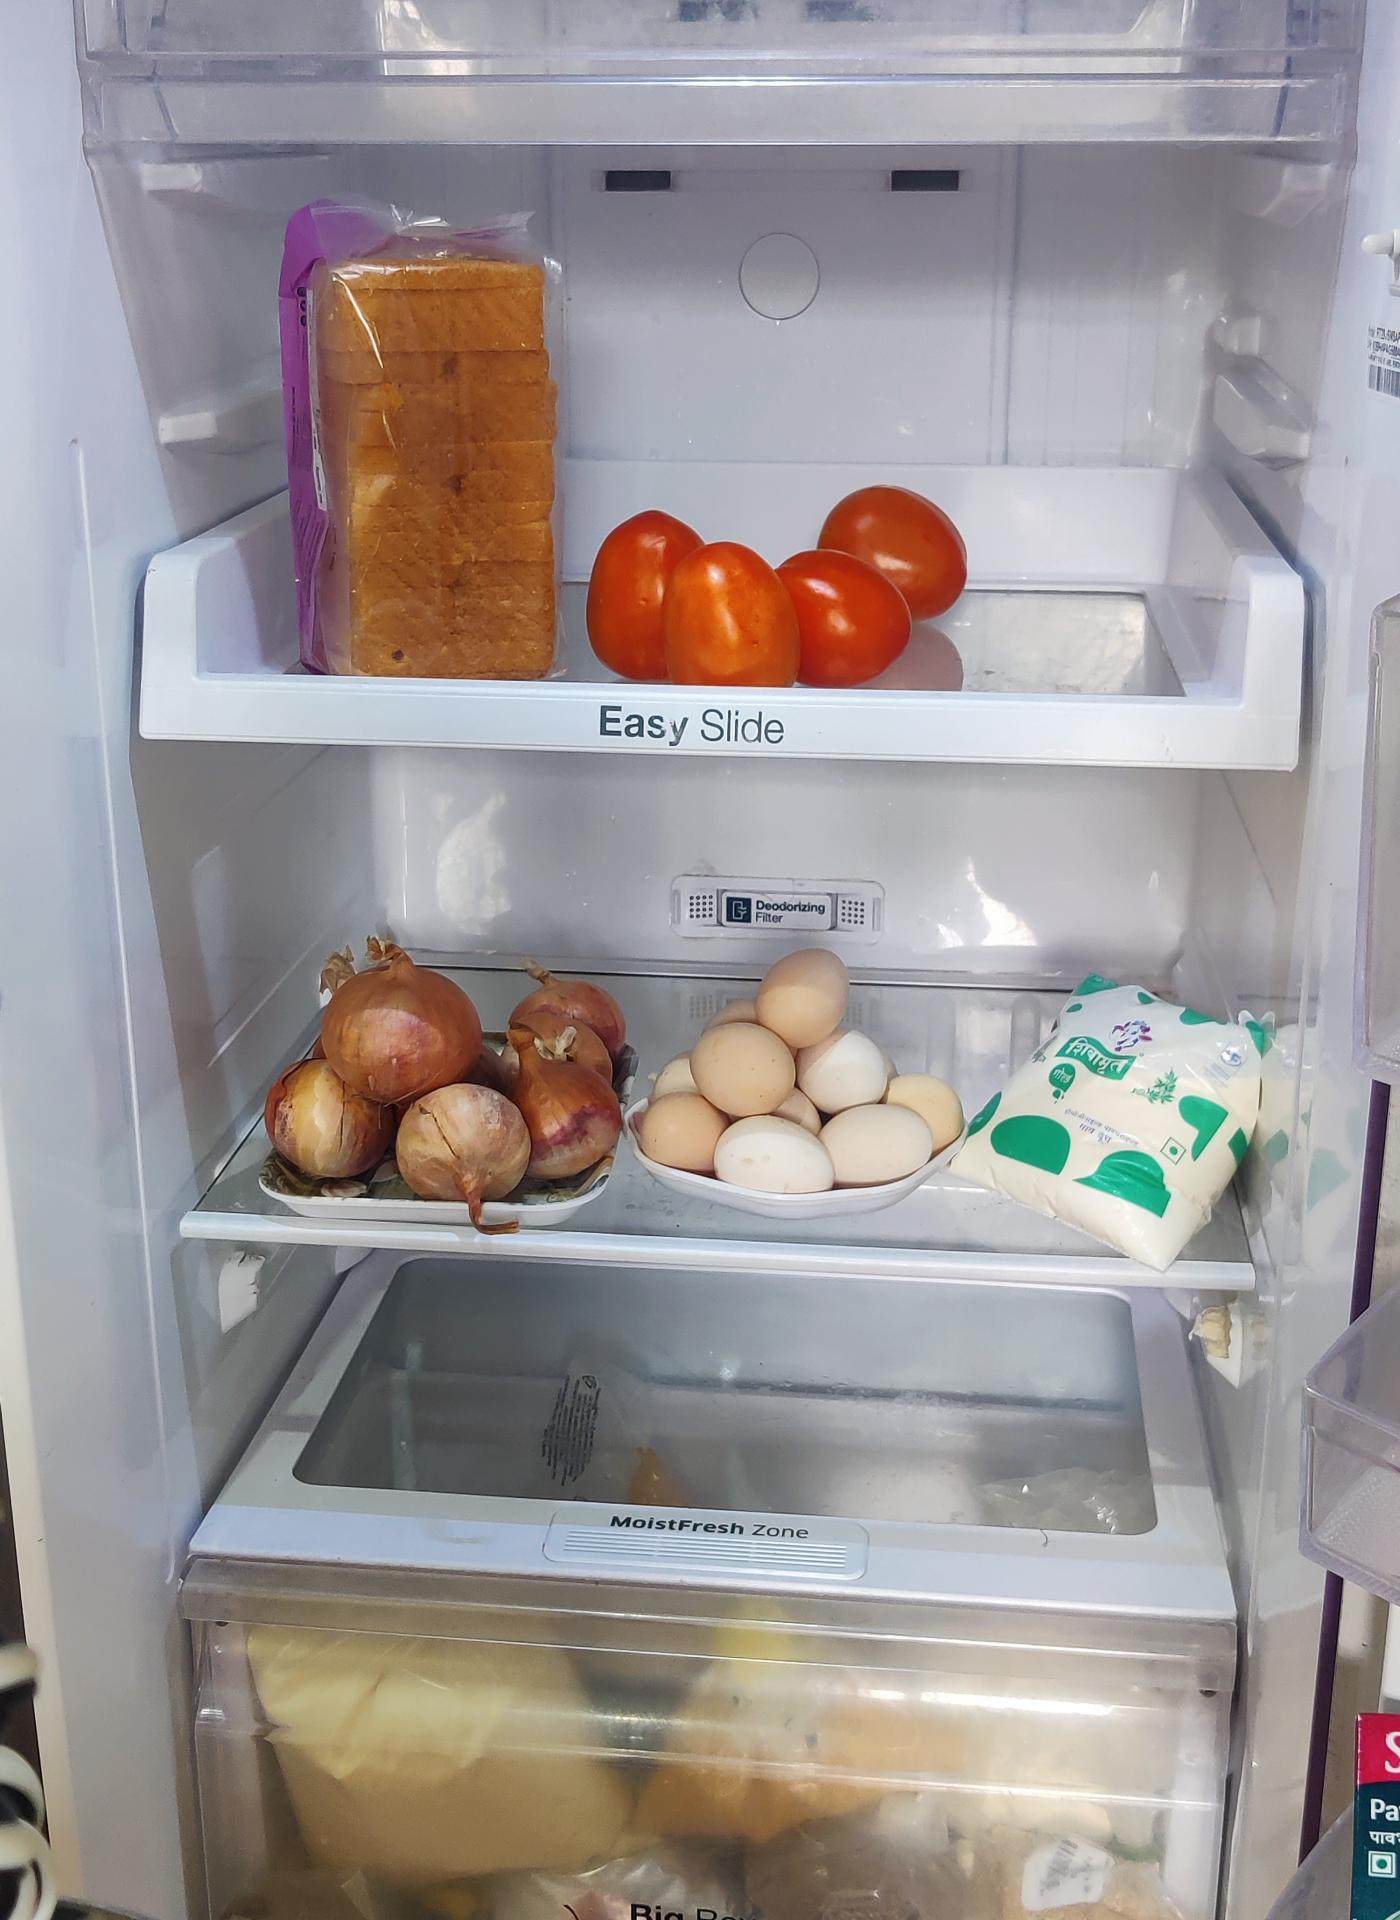bread: (279, 198, 574, 674)
egg: (635, 961, 954, 1210)
milk: (969, 970, 1272, 1260)
onion: (262, 930, 628, 1201)
tomato: (577, 484, 968, 692)
